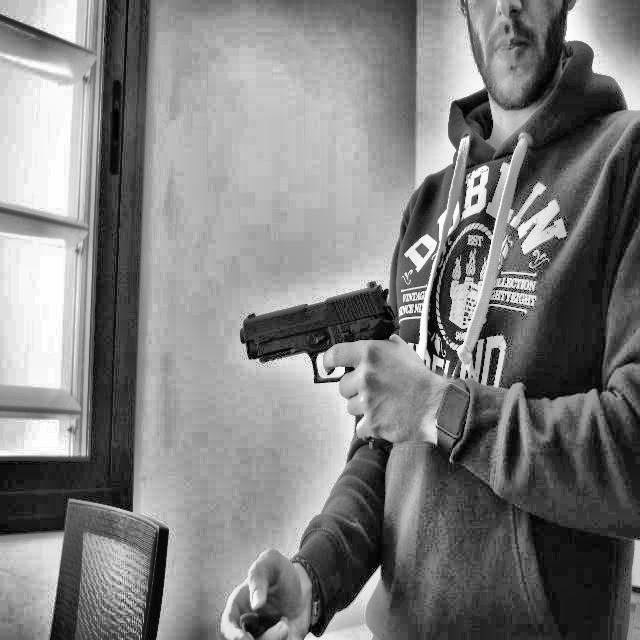pistol: (227, 290, 422, 446)
